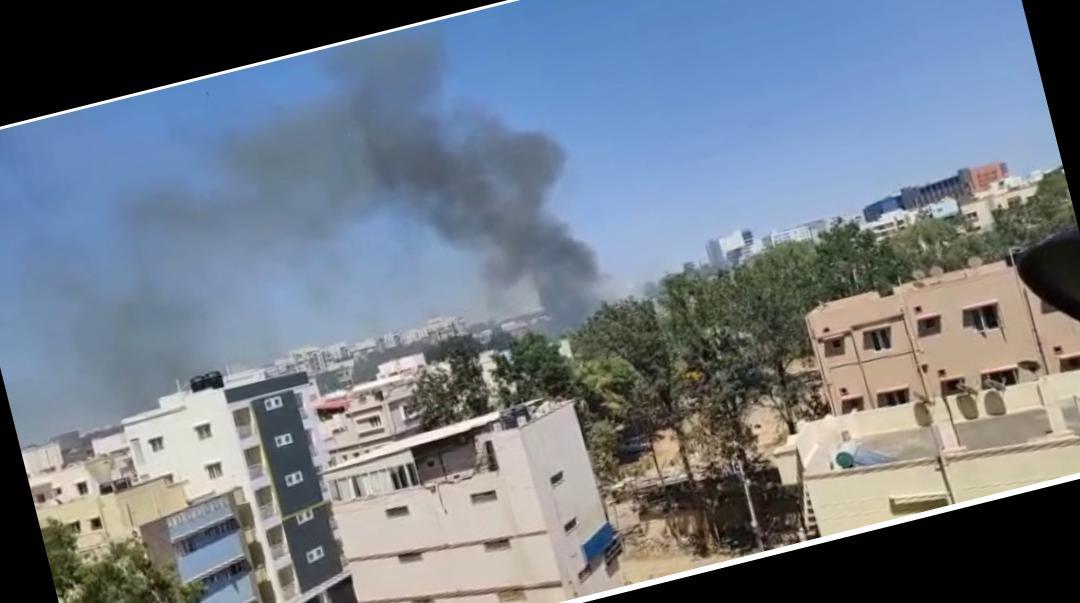Smoke: (0, 0, 628, 459)
